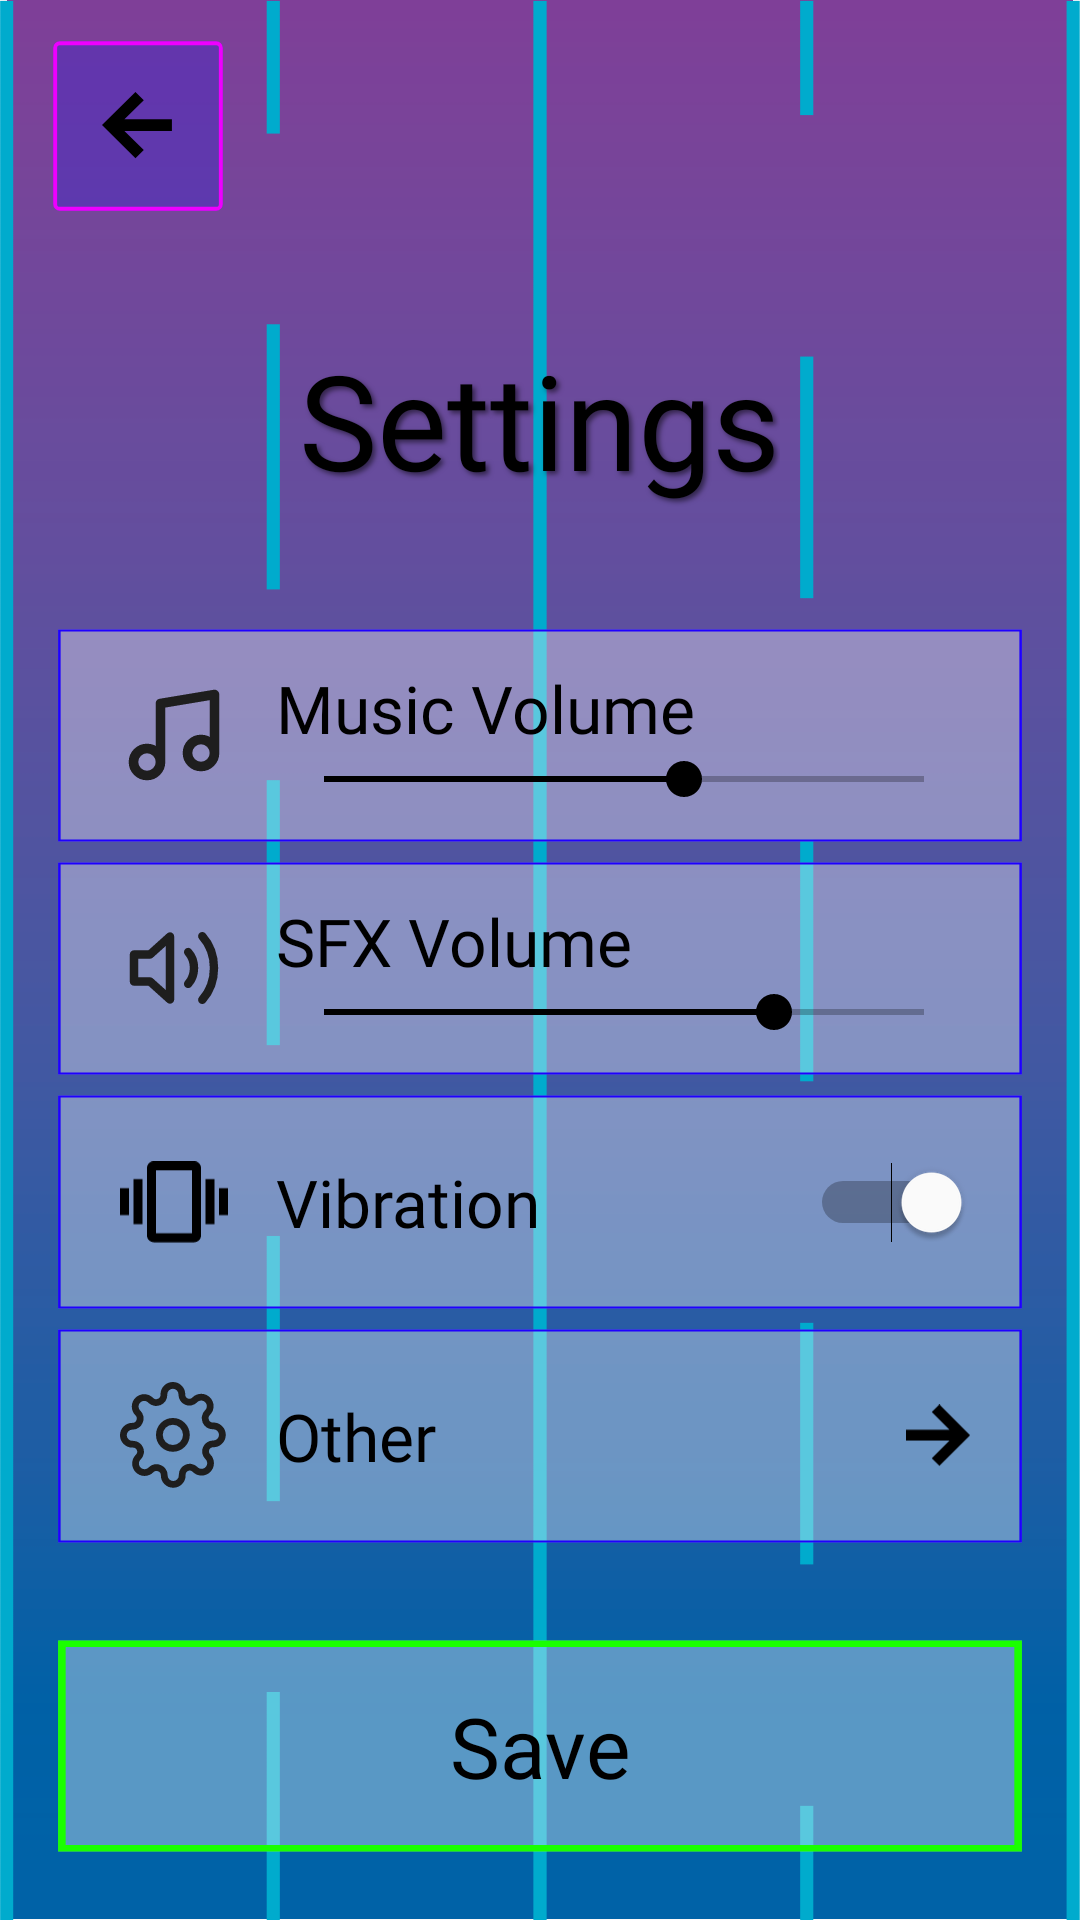

Where icons sit on this 1080 × 1920 app screen, as (x1, y1, x2, y2):
Back: (53, 41, 223, 211)
next: (906, 1404, 970, 1466)
settings: (120, 1382, 226, 1488)
sound: (129, 932, 219, 1004)
